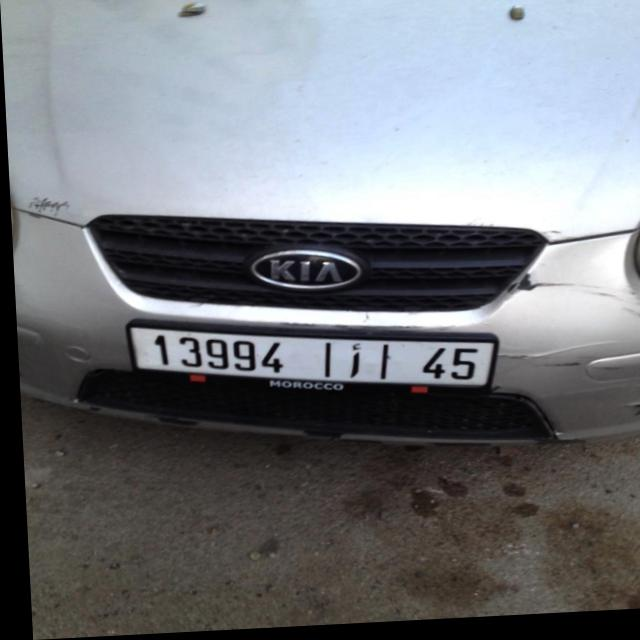License-Plate: (125, 328, 492, 392)
